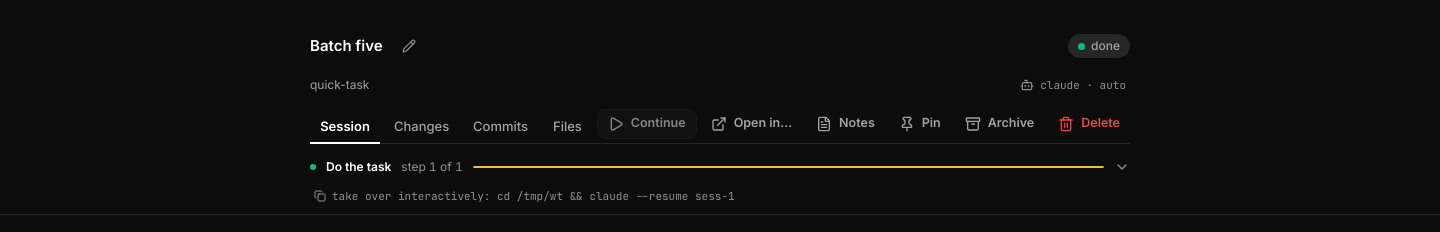
it: Q80 / G-21 / G-10 / G-16 the run header › a copied resume command says so, as a fragment
The width and height of the screenshot is (1440, 232).
Click the button "take over interactively" at (720, 196), box [310, 186, 1130, 206]
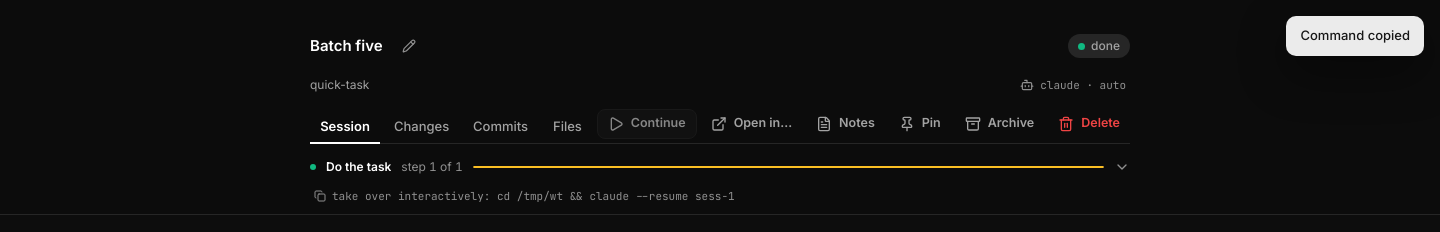
Now the message reads "Command copied", box [1300, 27, 1410, 43]
